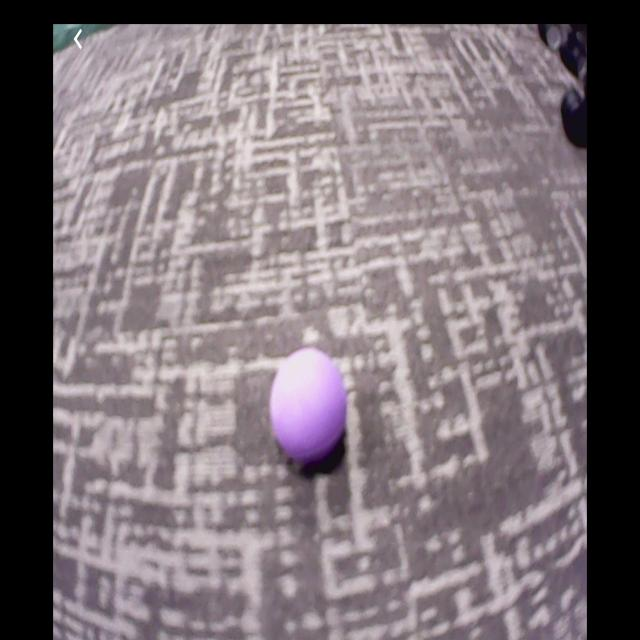ball: (273, 348, 348, 466)
